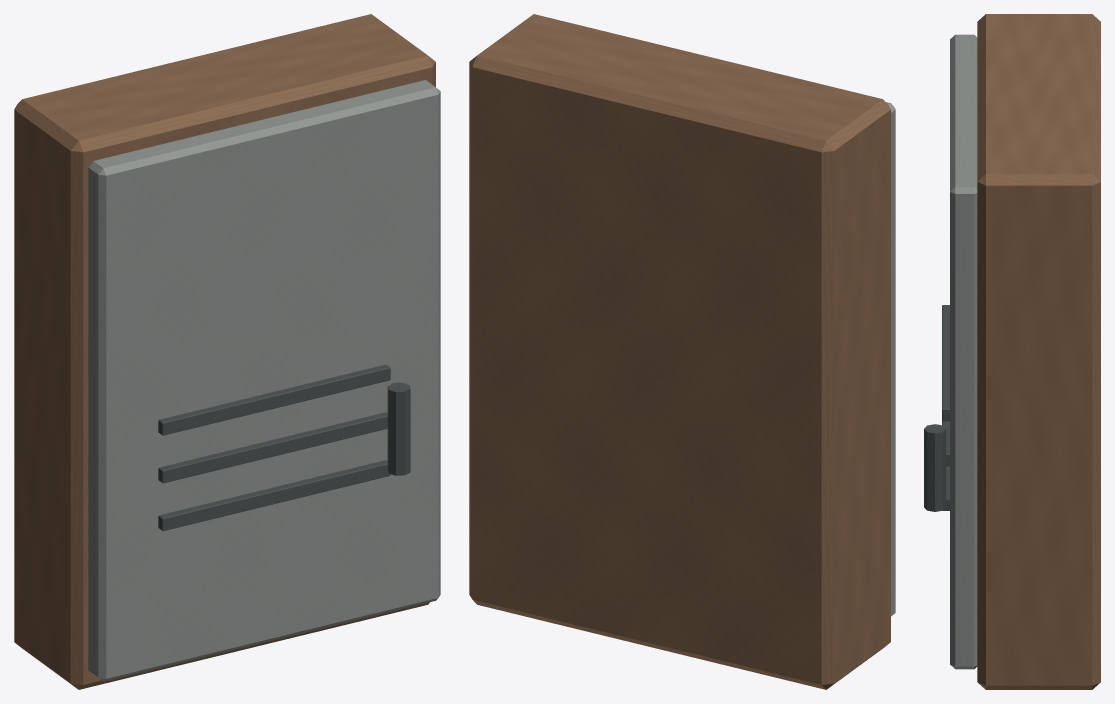
File: D_Utility_FuseBox_visual.glb
3 views of the same model, side by side, from view 1: azimuth 30°, elevation 25°; view 2: azimuth 150°, elevation 25°; view 3: azimuth 270°, elevation 25° (orthographic). The views are drawn at different scales.
Visible parts, largest first — view 1: D_Utility_FuseBox__VIS; view 2: D_Utility_FuseBox__VIS; view 3: D_Utility_FuseBox__VIS.
Part boxes in pixels (left/top/right/bottom): D_Utility_FuseBox__VIS: left=14, top=14, right=440, bottom=689; D_Utility_FuseBox__VIS: left=469, top=14, right=895, bottom=689; D_Utility_FuseBox__VIS: left=924, top=14, right=1100, bottom=689.
Size of the model in its own units: 1.6 by 2.3 by 0.715.
Materials: 1 (1 with a texture image).
